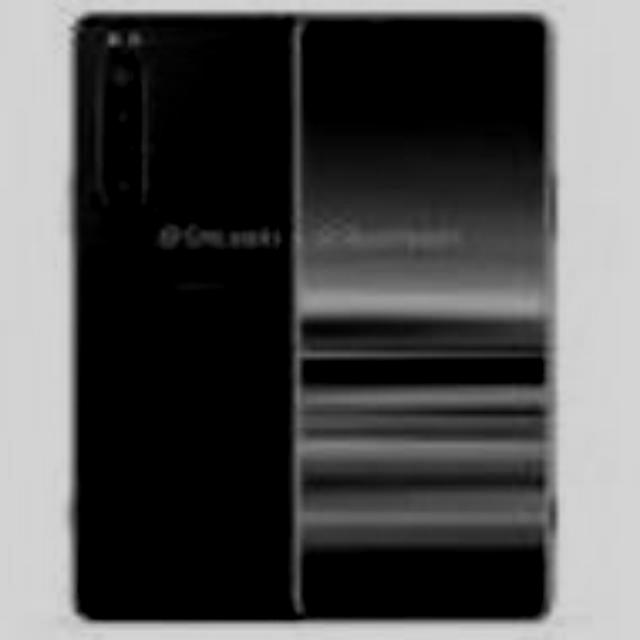fake: (74, 6, 298, 616)
